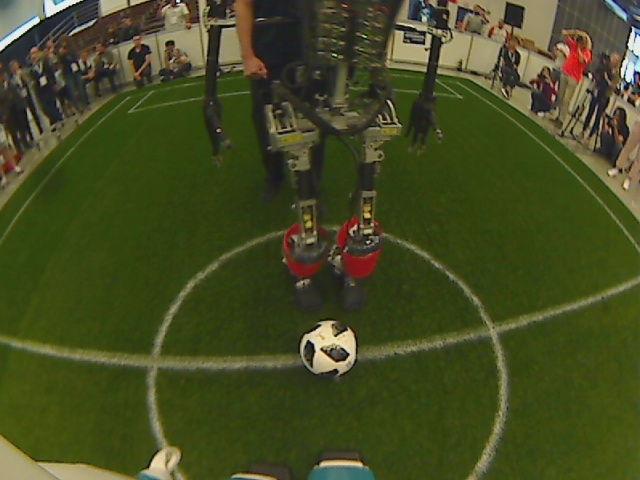ball: (298, 318, 360, 381)
